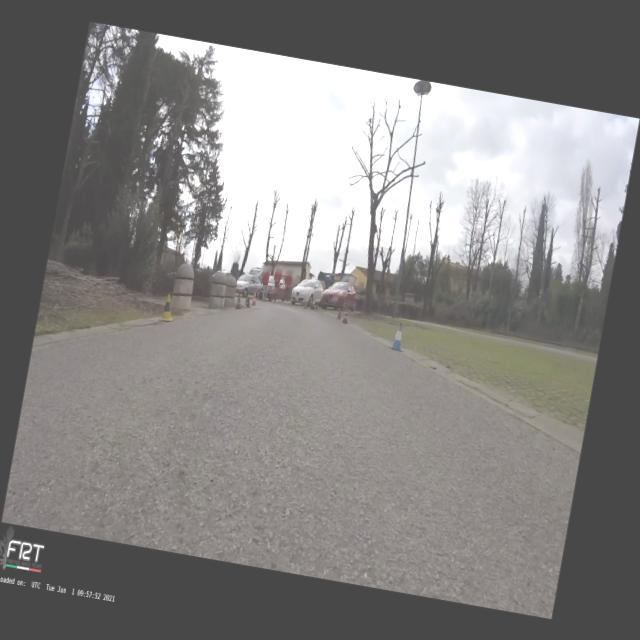blue_cone: (388, 321, 408, 352)
large_orange_cone: (341, 306, 350, 324), (234, 293, 243, 310), (250, 291, 258, 306)
orange_cone: (312, 298, 316, 306)
unknown_cone: (244, 297, 252, 308), (336, 308, 343, 320), (316, 304, 318, 308)
yellow_cone: (158, 292, 178, 322)
